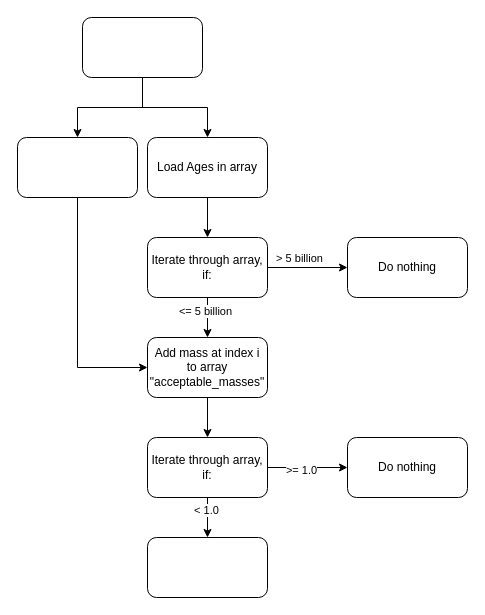
Some shapes in this 485 by 615 pixel diagram are drawn without their labels. The shapes that lost their labels are listed below. From the top down, each one's centre as x and y in pixels, then its label:
the point at 142,47: Load Data (Mass+Age)
the point at 77,167: Load Masses in array
the point at 207,567: Kill program
